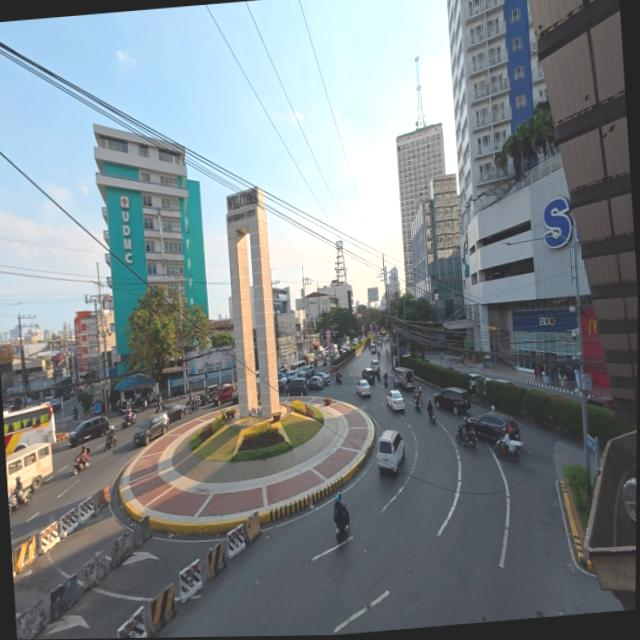car: (469, 412, 520, 441), (69, 416, 109, 446), (134, 412, 169, 445), (377, 430, 405, 471), (434, 387, 470, 414), (214, 385, 235, 406), (286, 377, 308, 396), (200, 385, 219, 405), (386, 389, 404, 410), (164, 403, 185, 421), (587, 396, 614, 409), (469, 373, 483, 392), (356, 380, 371, 397), (307, 376, 324, 390), (362, 368, 375, 384), (299, 365, 314, 378), (278, 374, 288, 393), (494, 378, 516, 386), (317, 372, 330, 385), (285, 370, 297, 381), (370, 359, 379, 371), (232, 390, 238, 405), (277, 364, 287, 373), (370, 344, 376, 353), (340, 348, 346, 355), (353, 338, 358, 345)
motorcycle: (8, 487, 32, 516), (494, 440, 522, 461), (336, 504, 349, 543), (456, 423, 477, 447), (72, 449, 90, 475), (105, 427, 118, 450), (122, 412, 136, 428), (185, 398, 199, 413), (428, 408, 436, 424), (414, 395, 421, 411), (334, 373, 342, 385), (73, 408, 79, 421), (384, 373, 388, 389), (156, 404, 163, 413), (376, 370, 381, 382)
vans: (6, 443, 53, 496), (291, 360, 308, 374)
